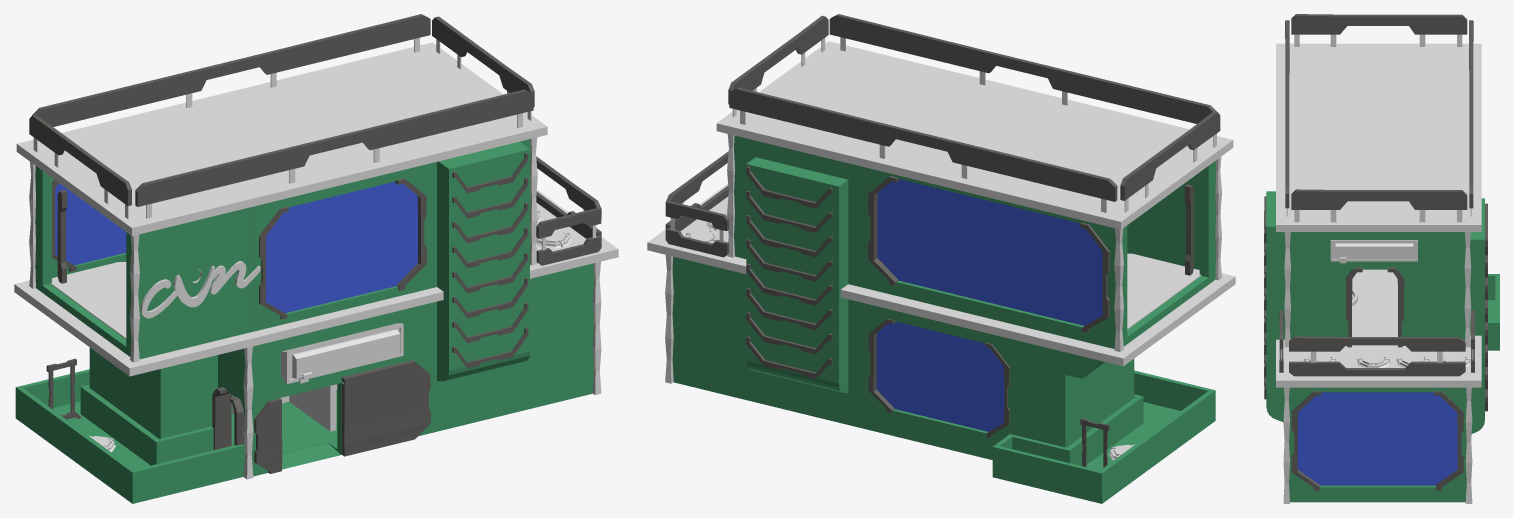
The model's file is edificioProps2.glb.
3 renders of one model, left to right at view 1: azimuth 30°, elevation 25°; view 2: azimuth 150°, elevation 25°; view 3: azimuth 270°, elevation 25°, orthographic. The views are drawn at different scales.
Visible parts, largest first — view 1: Techo 2, Piso1, Piso 2, Panel1, Cube.079, Pasillo, Base piso 2, Cube.014, Cube.058, Cube.105, Cube.009, Cube.107 (+20 smaller); view 2: Techo 2, Piso1, Cube.080, Piso 2, Panel 2, Pasillo, Cube.084, Base piso 2, Cube.058, Cube.014, Rejillas1, Cylinder (+14 smaller); view 3: Techo 2, Cube.081, Piso 2, Base piso 2, Piso1, Panel1, Cube.020, Cube.063, Panel 2, Cube.040, Cube.039, Cube.097 (+15 smaller).
Part boxes in pixels (x1,y1,x2,y2): Techo 2: [16, 42, 547, 235]; Piso1: [89, 263, 593, 476]; Piso 2: [35, 139, 530, 359]; Panel1: [437, 141, 529, 381]; Cube.079: [266, 181, 417, 313]; Pasillo: [15, 369, 244, 503]; Base piso 2: [14, 189, 618, 376]; Cube.014: [135, 89, 533, 206]; Cube.058: [32, 14, 430, 126]; Cube.105: [341, 360, 430, 456]; Cube.009: [452, 153, 528, 367]; Cube.107: [281, 323, 403, 384]; Techo 2: [716, 41, 1233, 229]; Piso1: [672, 256, 1134, 459]; Cube.080: [877, 179, 1102, 325]; Piso 2: [734, 135, 1215, 348]; Panel 2: [746, 157, 848, 392]; Pasillo: [992, 370, 1215, 503]; Cube.084: [876, 321, 1004, 431]; Base piso 2: [647, 184, 1235, 366]; Cube.058: [729, 87, 1117, 201]; Cube.014: [829, 14, 1216, 123]; Rejillas1: [746, 166, 832, 378]; Cylinder: [1127, 253, 1201, 329]; Techo 2: [1276, 43, 1481, 231]; Cube.081: [1297, 392, 1457, 485]; Piso 2: [1289, 232, 1465, 345]; Base piso 2: [1276, 269, 1481, 387]; Piso1: [1289, 387, 1466, 502]; Panel1: [1266, 191, 1285, 422]; Cube.020: [1291, 14, 1467, 34]; Cube.063: [1291, 189, 1467, 209]; Panel 2: [1470, 198, 1484, 433]; Cube.040: [1289, 361, 1465, 376]; Cube.039: [1289, 336, 1465, 351]; Cube.097: [1330, 240, 1417, 261].
Size of what is drawn, in the model's own units: 33.18 by 20.91 by 15.53.
